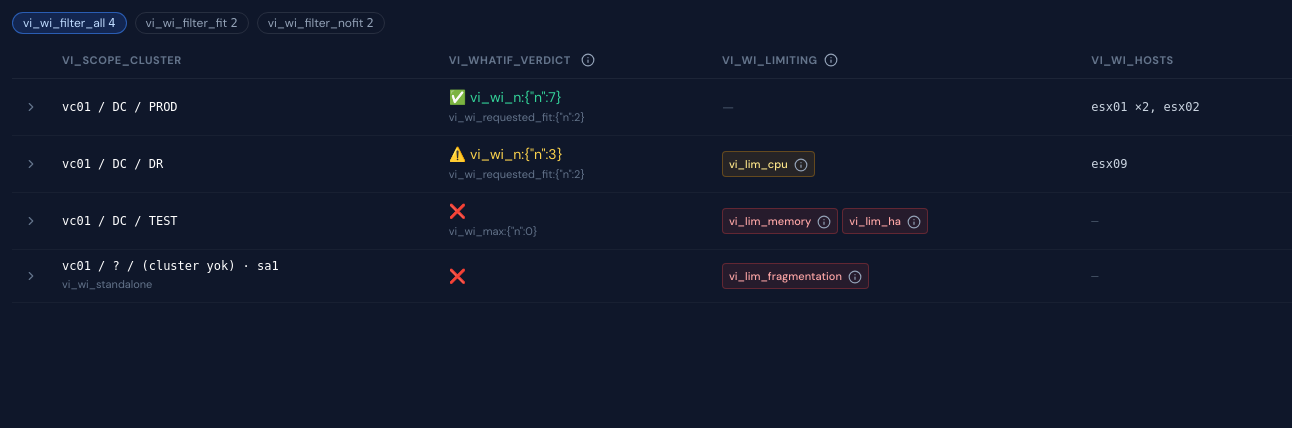
Test: What-if sonuç tablosu › satıra tıklayınca ayrıntı açılır (host başına boş Memory, gerekçe, not)
This screenshot has width=1292, height=428.
Click the row with test id "wi-row" that starts with "vc01 / DC / PROD": (652, 107) [12,78,1291,136]
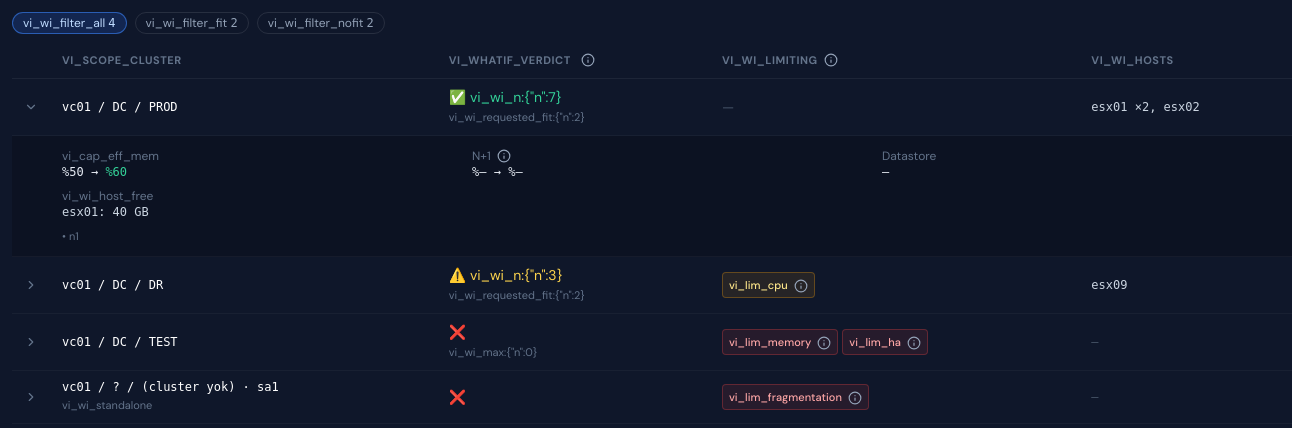
Result: the text "esx01: 40 GB" is shown at [62,204,149,220]
Result: the text "• n1" is shown at [62,229,79,243]
